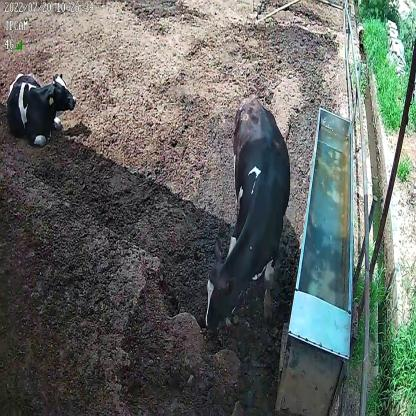cow: (203, 93, 292, 332), (5, 68, 77, 149)
